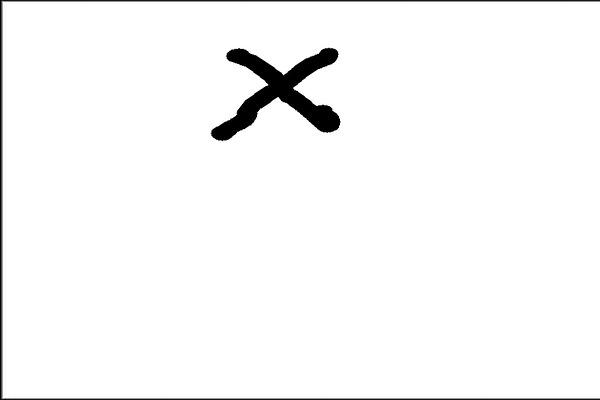X: (194, 28, 368, 165)
